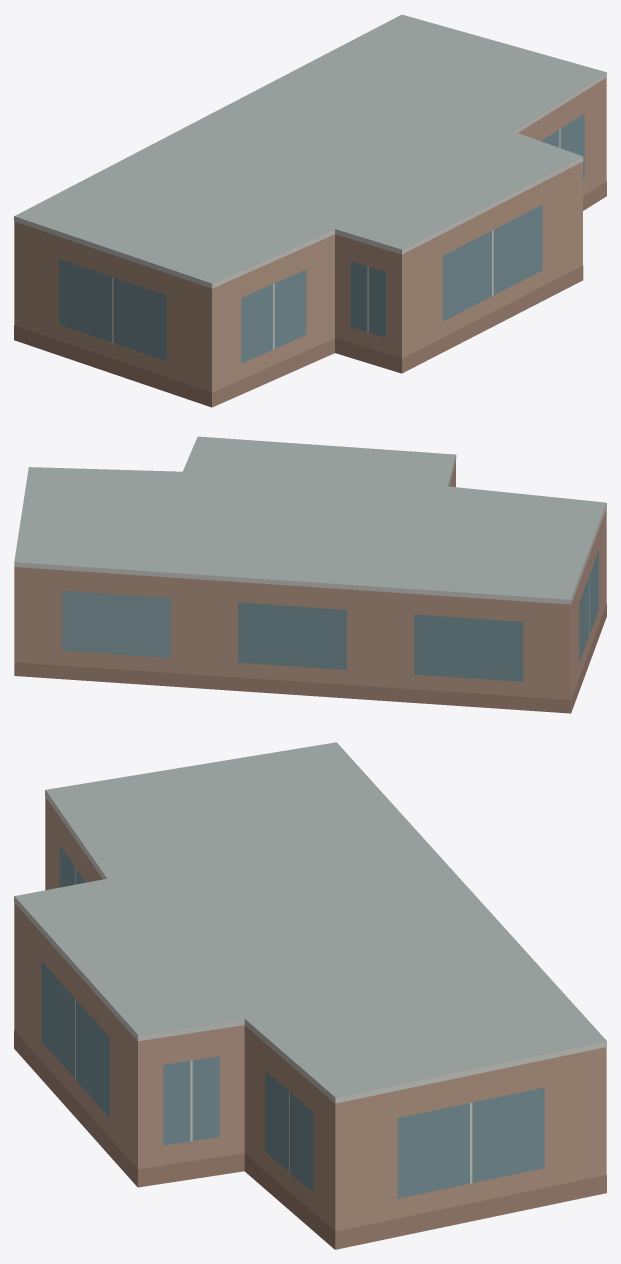
File: survey-upis-32637361.glb
3 renders of one model, top to bottom at view 1: azimuth 30°, elevation 25°; view 2: azimuth 150°, elevation 25°; view 3: azimuth 270°, elevation 25°, orthographic. The views are drawn at different scales.
Parts seen in each view (by area): view 1: survey-upis-32637361.tmp; view 2: survey-upis-32637361.tmp; view 3: survey-upis-32637361.tmp.
Part boxes in pixels (x1=…): survey-upis-32637361.tmp: x1=14, y1=14, x2=606, y2=407; survey-upis-32637361.tmp: x1=14, y1=436, x2=606, y2=713; survey-upis-32637361.tmp: x1=14, y1=742, x2=606, y2=1249.
Size of the model in its own units: 15.26 by 3.05 by 10.76.
